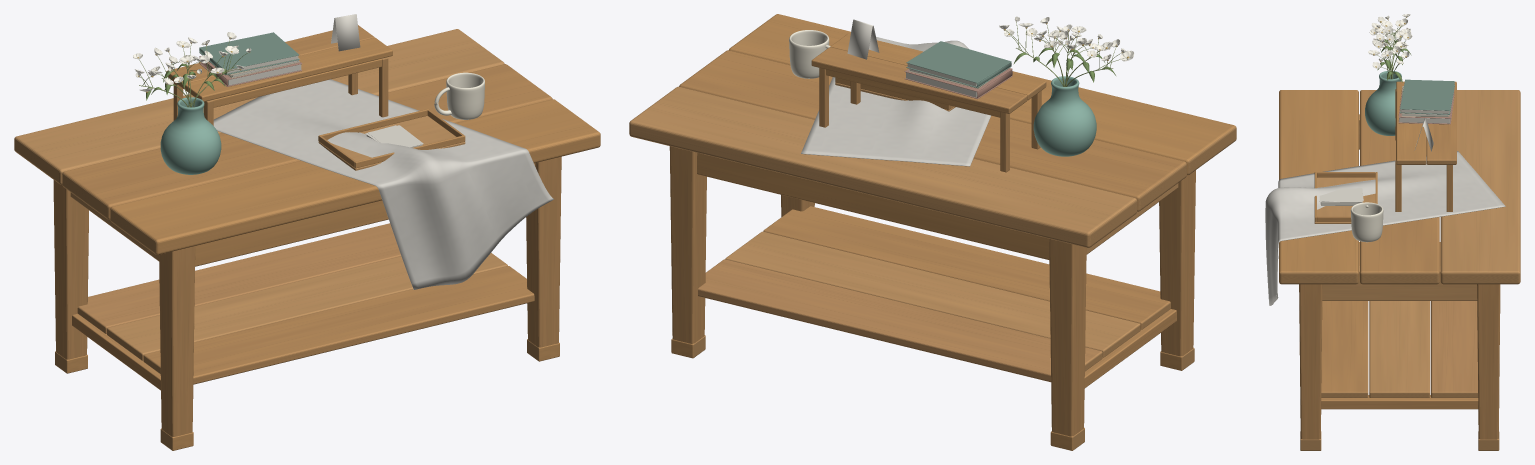
Rendered from display-group.glb.
3 renders of one model, left to right at view 1: azimuth 30°, elevation 25°; view 2: azimuth 150°, elevation 25°; view 3: azimuth 270°, elevation 25°, orthographic. The views are drawn at different scales.
Parts seen in each view (by area): view 1: target-proof/display/table, target-proof/display/cloth, target-proof/display/tiered-riser, target-proof/display/book-stack, target-proof/display/vase, target-proof/display/shallow-tray, target-proof/display/flowers, target-proof/display/cup, target-proof/display/folded-card, target-proof/display/paper-stack; view 2: target-proof/display/table, target-proof/display/cloth, target-proof/display/tiered-riser, target-proof/display/book-stack, target-proof/display/vase, target-proof/display/flowers, target-proof/display/cup, target-proof/display/folded-card, target-proof/display/shallow-tray; view 3: target-proof/display/table, target-proof/display/cloth, target-proof/display/tiered-riser, target-proof/display/book-stack, target-proof/display/flowers, target-proof/display/shallow-tray, target-proof/display/vase, target-proof/display/cup, target-proof/display/paper-stack.
Boxes of the visible parts, <box> form: target-proof/display/table: <box>14,29,600,450</box>; target-proof/display/cloth: <box>213,79,553,289</box>; target-proof/display/tiered-riser: <box>166,25,392,125</box>; target-proof/display/book-stack: <box>199,32,302,86</box>; target-proof/display/vase: <box>160,97,221,174</box>; target-proof/display/shallow-tray: <box>318,109,465,170</box>; target-proof/display/flowers: <box>133,32,251,107</box>; target-proof/display/cup: <box>434,72,484,119</box>; target-proof/display/folded-card: <box>331,14,360,51</box>; target-proof/display/paper-stack: <box>365,125,423,147</box>; target-proof/display/table: <box>629,14,1236,450</box>; target-proof/display/cloth: <box>801,37,990,166</box>; target-proof/display/tiered-riser: <box>811,33,1046,172</box>; target-proof/display/book-stack: <box>904,41,1012,98</box>; target-proof/display/vase: <box>1033,76,1096,156</box>; target-proof/display/flowers: <box>999,16,1134,86</box>; target-proof/display/cup: <box>789,30,830,78</box>; target-proof/display/folded-card: <box>847,19,879,59</box>; target-proof/display/shallow-tray: <box>835,77,955,111</box>; target-proof/display/table: <box>1279,90,1520,450</box>; target-proof/display/cloth: <box>1265,151,1505,305</box>; target-proof/display/tiered-riser: <box>1395,81,1456,211</box>; target-proof/display/book-stack: <box>1398,79,1454,124</box>; target-proof/display/flowers: <box>1368,14,1412,82</box>; target-proof/display/shallow-tray: <box>1314,172,1377,223</box>; target-proof/display/vase: <box>1365,70,1401,135</box>; target-proof/display/cup: <box>1350,202,1383,242</box>; target-proof/display/paper-stack: <box>1319,188,1363,205</box>.
Size of the model in its own units: 1.86 by 1.38 by 1.1.
21 materials, 10 textured.
